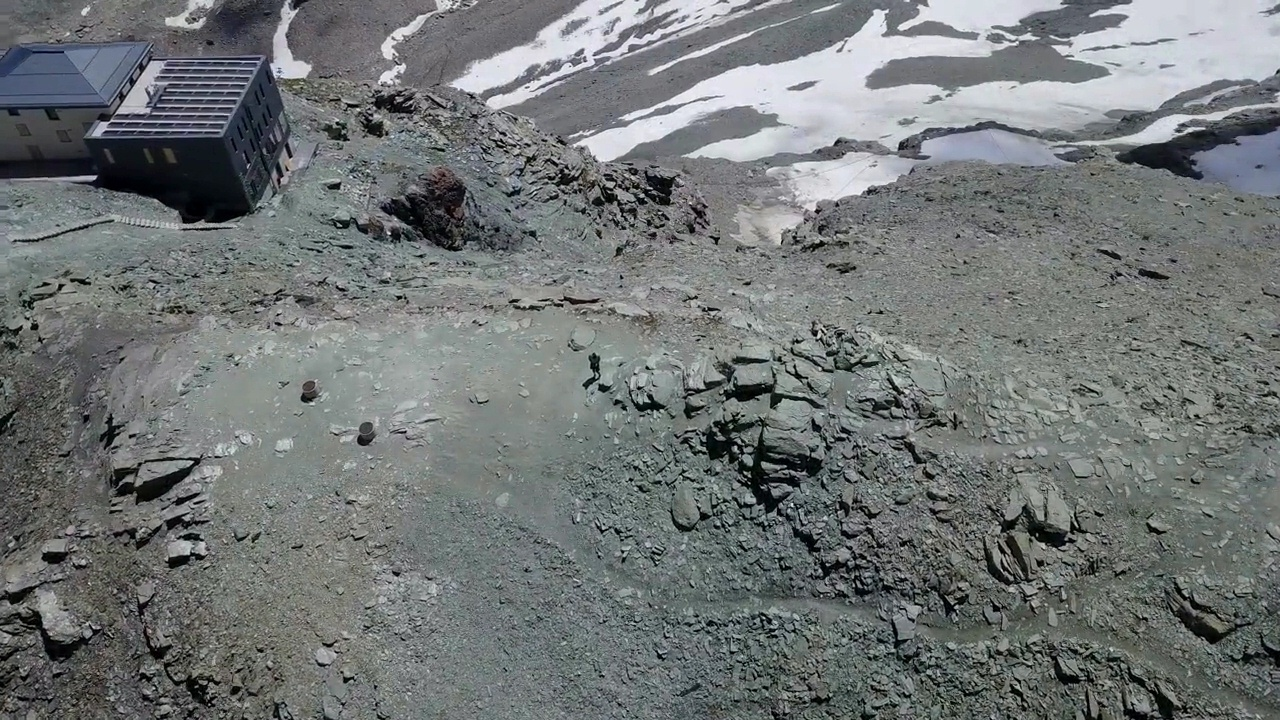insan: (585, 349, 602, 379)
